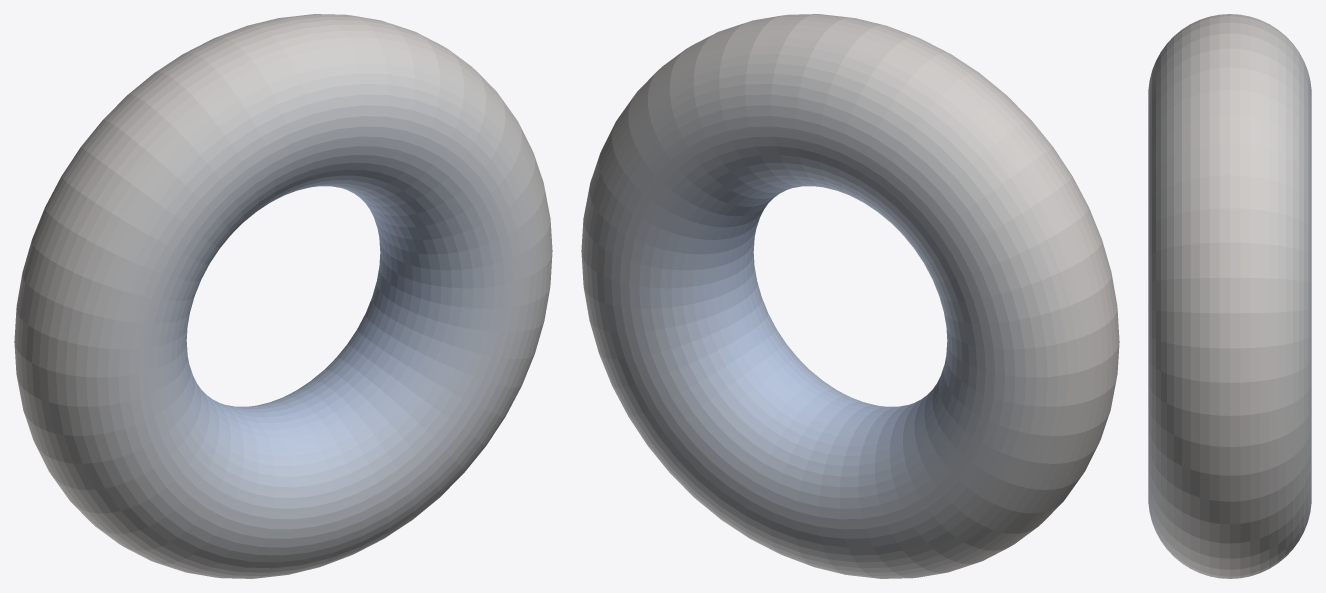
3 views of the same model, side by side, from view 1: azimuth 30°, elevation 25°; view 2: azimuth 150°, elevation 25°; view 3: azimuth 270°, elevation 25° (orthographic). The views are drawn at different scales.
Visible parts, largest first — view 1: world; view 2: world; view 3: world.
Part boxes in pixels (bbox=[...]): world: bbox=[14, 14, 552, 578]; world: bbox=[581, 14, 1119, 578]; world: bbox=[1148, 14, 1311, 578].
Bounding box in the file's own units: 23.47 × 23.42 × 6.79.
